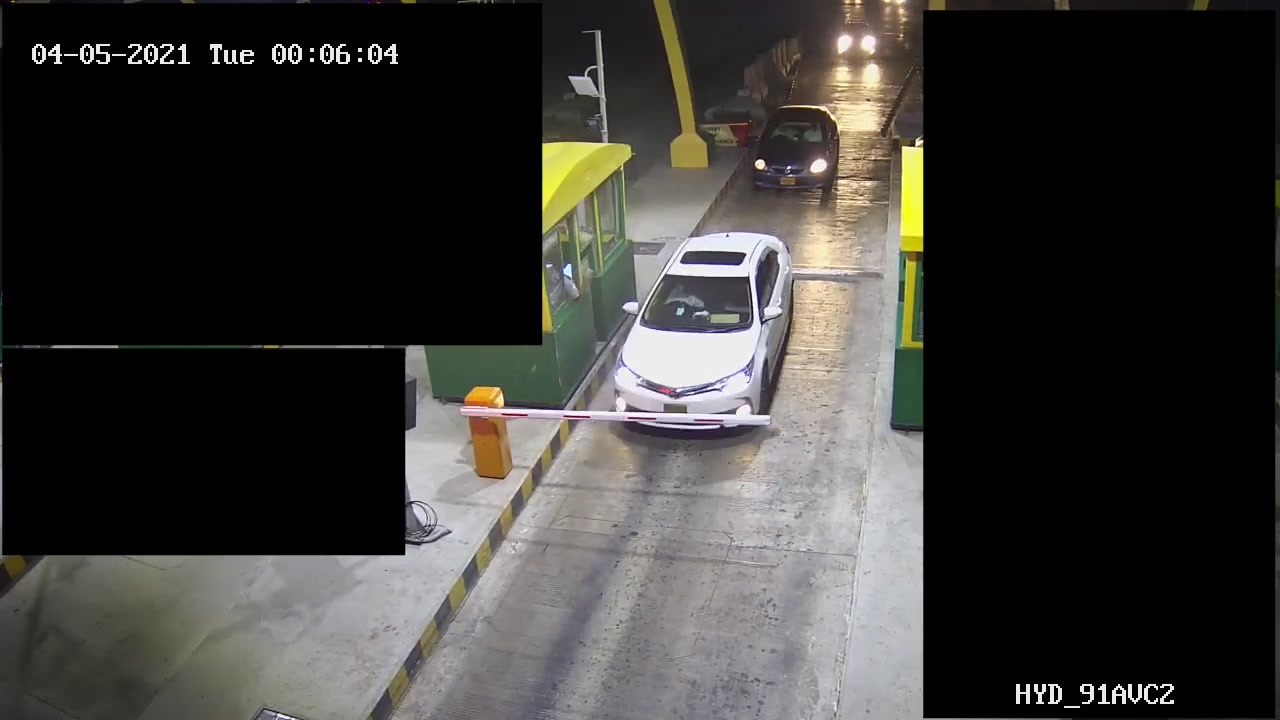F1: (606, 219, 802, 438)
